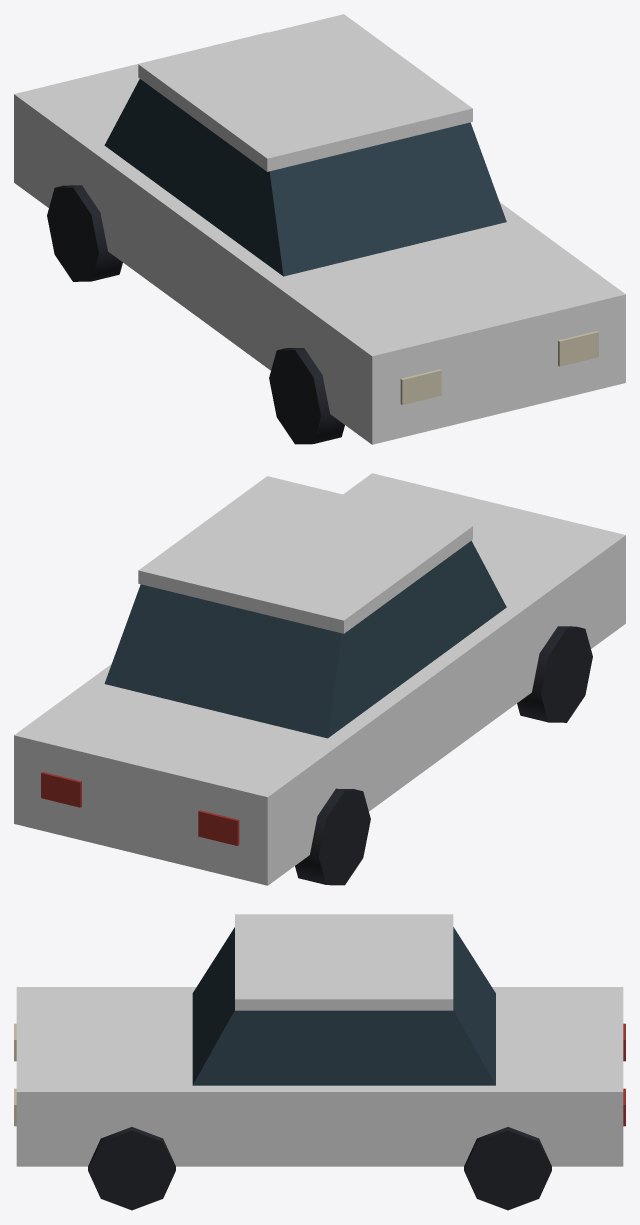
Rendered from veh_car_1.20a2f818e099.glb.
3 renders of one model, top to bottom at view 1: azimuth 30°, elevation 25°; view 2: azimuth 150°, elevation 25°; view 3: azimuth 270°, elevation 25°, orthographic. The views are drawn at different scales.
Parts seen in each view (by area): view 1: LOD0; view 2: LOD0; view 3: LOD0.
Part boxes in pixels (x1,y1,x2,y2): LOD0: [14, 14, 625, 444]; LOD0: [14, 473, 625, 885]; LOD0: [14, 914, 625, 1210].
Size of what is drawn, in the model's own units: 1.93 by 1.58 by 4.44.
